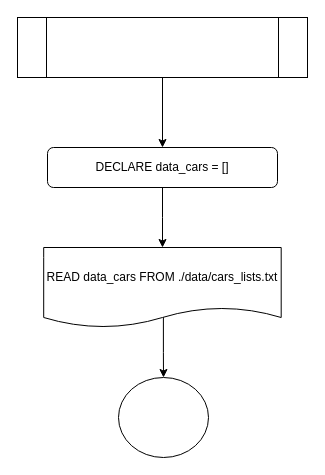
Image size: 325x475. Some labels were removed from this diagram. Here are the shapes that lost their labels. From the top down, the centre of each, then its label:
At point (162, 47): "FUNCTION input_datacars()".
At point (163, 417): "RETURN data_cars".
